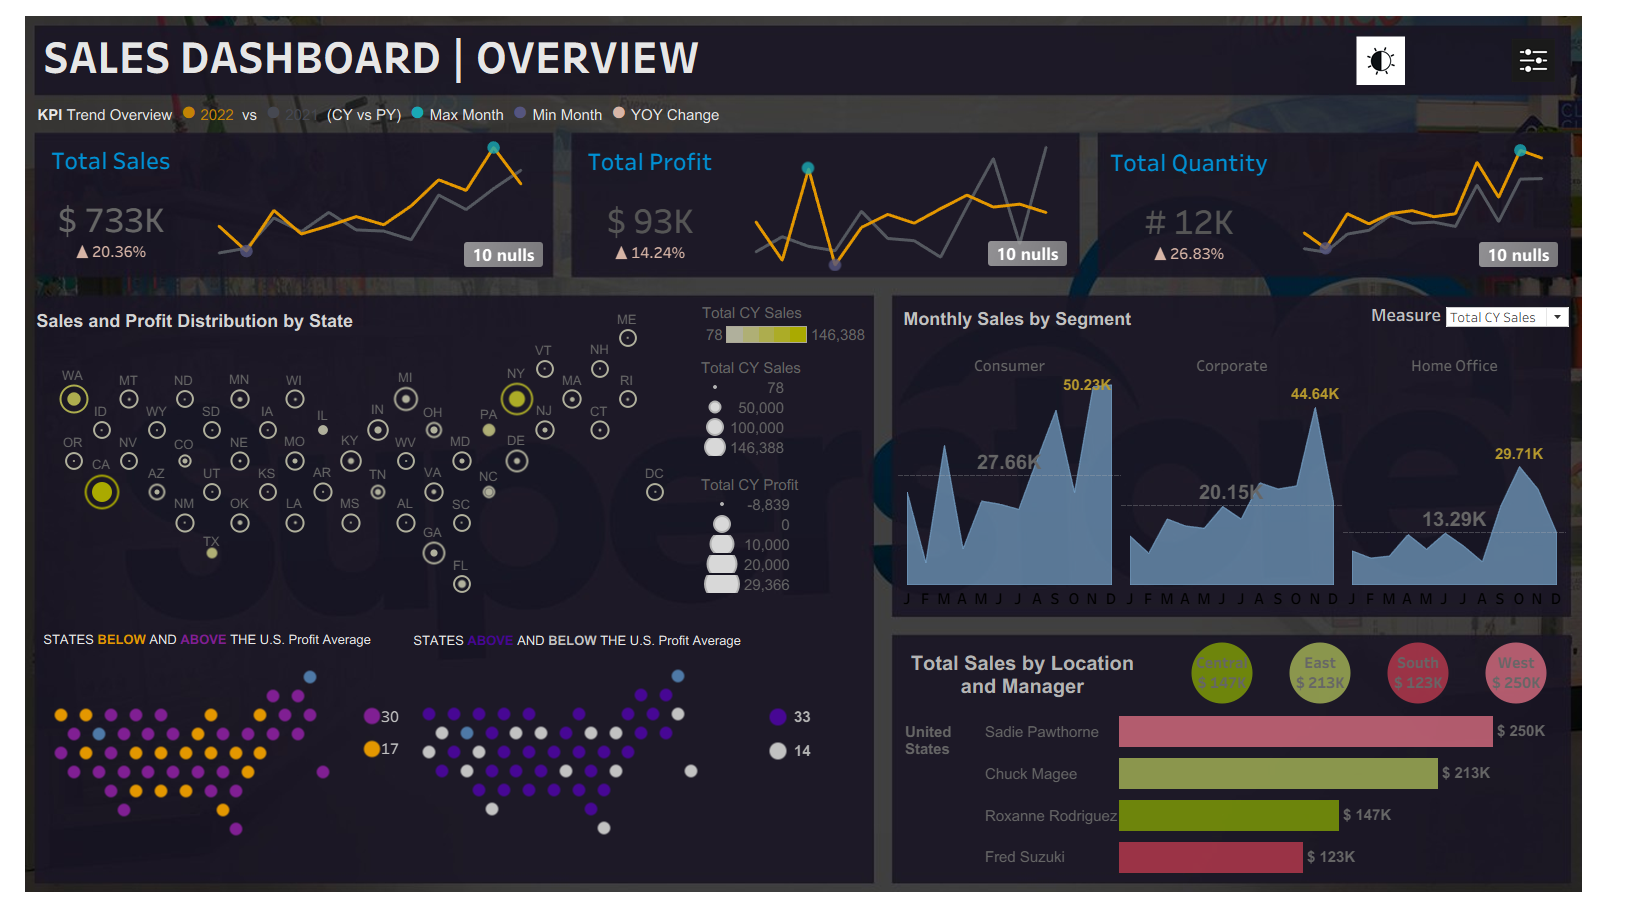

Layout of this report page (visuals, bound fields, positions):
{"tool":"tableau","page":{"name":"Sales Dashboard","canvas":[1600,900],"ordinal":0},"visuals":[{"type":"image","param":"C:/Users/123ra/OneDrive/Desktop/Sales Dashboard Background/Slide4.JPG","box":[8,8,1584,884]},{"type":"text","box":[36,16,759,70]},{"type":"filter","title":"Sales and Profit by State ","param":"[federated.1atlnmu0addl1l1gwix4g1qseh0k].[none:Category:nk]","box":[1399,23,96,57]},{"type":"dashboard-object","box":[1344,32,56,49]},{"type":"dashboard-object","box":[1501,34,56,44]},{"type":"filter","title":"Sales and Profit by State ","param":"[federated.1atlnmu0addl1l1gwix4g1qseh0k].[none:Region:nk]","box":[1399,80,96,57]},{"type":"text","box":[30,92,688,35]},{"type":"worksheet","title":"Sales KPI","mark":"Automatic","box":[31,128,152,144]},{"type":"worksheet","title":"Sales Sparkline","mark":"Automatic","rows":["Calculation_0402745724579840"],"cols":["Order Date"],"box":[183,128,365,144]},{"type":"worksheet","title":"Profit KPI ","mark":"Automatic","box":[570,131,151,140]},{"type":"worksheet","title":"Profit Sparkline","mark":"Automatic","rows":["min max sales (copy)_0402745730015233"],"cols":["Order Date"],"box":[721,131,351,140]},{"type":"worksheet","title":"Quantity KPI ","mark":"Automatic","box":[1096,131,178,141]},{"type":"worksheet","title":"Quantity Sparkline","mark":"Automatic","rows":["min max sales (copy)_0402745733791746"],"cols":["Order Date"],"box":[1274,131,289,141]},{"type":"filter","title":"Sales and Profit by State ","param":"[federated.1atlnmu0addl1l1gwix4g1qseh0k].[none:Ship Mode:nk]","box":[1399,137,96,57]},{"type":"legend","title":"Sales and Profit by State ","param":"[federated.1atlnmu0addl1l1gwix4g1qseh0k].[sum:Calculation_0149308047835136:qk]","box":[698,300,168,48]},{"type":"text","box":[896,300,257,30]},{"type":"parameter","param":"[Parameters].[Parameter 0402746558570507]","box":[1367,300,201,30]},{"type":"text","box":[29,302,336,30]},{"type":"worksheet","title":"Sales and Profit by State ","mark":"Circle","rows":["Row"],"cols":["Column","Column"],"box":[27,303,662,308]},{"type":"worksheet","title":"Month Sales By Segment","mark":"Area","rows":["Calculation_0402746559078412"],"cols":["Segment","Order Date"],"box":[894,351,668,255]},{"type":"legend","title":"Sales and Profit by State ","param":"[federated.1atlnmu0addl1l1gwix4g1qseh0k].[sum:Calculation_0149308047835136:qk]","box":[697,355,163,106]},{"type":"legend","title":"Sales and Profit by State ","param":"[federated.1atlnmu0addl1l1gwix4g1qseh0k].[sum:Total CY Sales (copy)_014930805576","box":[697,472,140,127]},{"type":"text","box":[406,622,343,30]},{"type":"text","box":[36,625,348,21]},{"type":"worksheet","title":"Region wise Sales","mark":"Circle","cols":["Region"],"box":[1169,634,392,69]},{"type":"text","box":[901,637,235,67]},{"type":"worksheet","title":"Avg Profit by State","mark":"Circle","rows":["Row"],"cols":["Column"],"box":[406,653,300,190]},{"type":"worksheet","title":"Avg Sales by State","mark":"Circle","rows":["Row"],"cols":["Column"],"box":[38,654,300,190]},{"type":"worksheet","title":"Avg Sales by State Count","mark":"Circle","rows":["Calculation_0402746541285383"],"box":[338,696,60,65]},{"type":"worksheet","title":"Avg Profit by State Count","mark":"Circle","rows":["Sales Avg Color (copy)_0402746544267274"],"box":[738,696,72,68]},{"type":"worksheet","title":"Total Sales By Local and Manager","mark":"Automatic","rows":["Country/Region","Regional Manager"],"cols":["Calculation_0149308047835136"],"box":[895,707,670,167]}]}

Visuals, with their boxes in screenshot pixels (x1, y1, x2, y2), scaled from the page's 1600x900 canvas onto the 1639x918 screenshot:
image: 8,8,1631,910
text: 37,16,814,88
"Sales and Profit by State " filter: 1433,23,1531,82
dashboard-object: 1377,33,1434,83
dashboard-object: 1538,35,1595,80
"Sales and Profit by State " filter: 1433,82,1531,140
text: 31,94,736,130
"Sales KPI" worksheet: 32,131,187,277
"Sales Sparkline" worksheet: 187,131,561,277
"Profit KPI " worksheet: 584,134,739,276
"Profit Sparkline" worksheet: 739,134,1098,276
"Quantity KPI " worksheet: 1123,134,1305,277
"Quantity Sparkline" worksheet: 1305,134,1601,277
"Sales and Profit by State " filter: 1433,140,1531,198
"Sales and Profit by State " legend: 715,306,887,355
text: 918,306,1181,337
parameter: 1400,306,1606,337
text: 30,308,374,339
"Sales and Profit by State " worksheet (Circle marks): 28,309,706,623
"Month Sales By Segment" worksheet (Area marks): 916,358,1600,618
"Sales and Profit by State " legend: 714,362,881,470
"Sales and Profit by State " legend: 714,481,857,611
text: 416,634,767,665
text: 37,638,393,659
"Region wise Sales" worksheet (Circle marks): 1197,647,1599,717
text: 923,650,1164,718
"Avg Profit by State" worksheet (Circle marks): 416,666,723,860
"Avg Sales by State" worksheet (Circle marks): 39,667,346,861
"Avg Sales by State Count" worksheet (Circle marks): 346,710,408,776
"Avg Profit by State Count" worksheet (Circle marks): 756,710,830,779
"Total Sales By Local and Manager" worksheet: 917,721,1603,891
